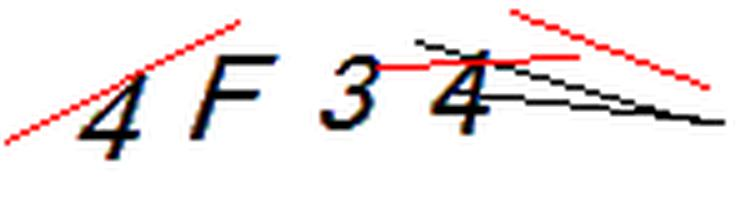3: (312, 50, 389, 136)
4: (423, 43, 514, 141), (71, 69, 156, 168)
F: (183, 48, 290, 148)
